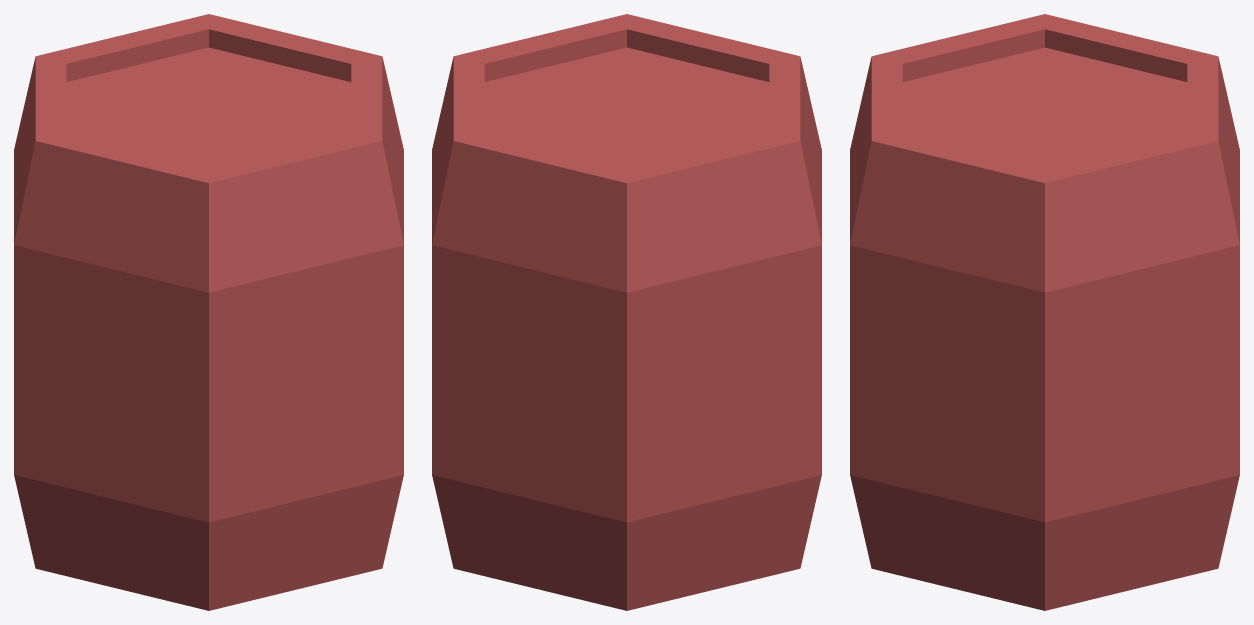
The model's file is Barrel.fbx.
3 renders of one model, left to right at view 1: azimuth 30°, elevation 25°; view 2: azimuth 150°, elevation 25°; view 3: azimuth 270°, elevation 25°, orthographic.
Visible parts, largest first — view 1: tonneau, couvercle_tonneau; view 2: tonneau, couvercle_tonneau; view 3: tonneau, couvercle_tonneau.
Part boxes in pixels (x1,y1,x2,y2): tonneau: (14, 14, 403, 610); couvercle_tonneau: (66, 47, 351, 167); tonneau: (432, 14, 821, 610); couvercle_tonneau: (484, 47, 769, 167); tonneau: (850, 14, 1239, 610); couvercle_tonneau: (902, 47, 1187, 167).
Size of what is drawn, in the model's own units: 0.8596 by 0.901 by 0.7445.
